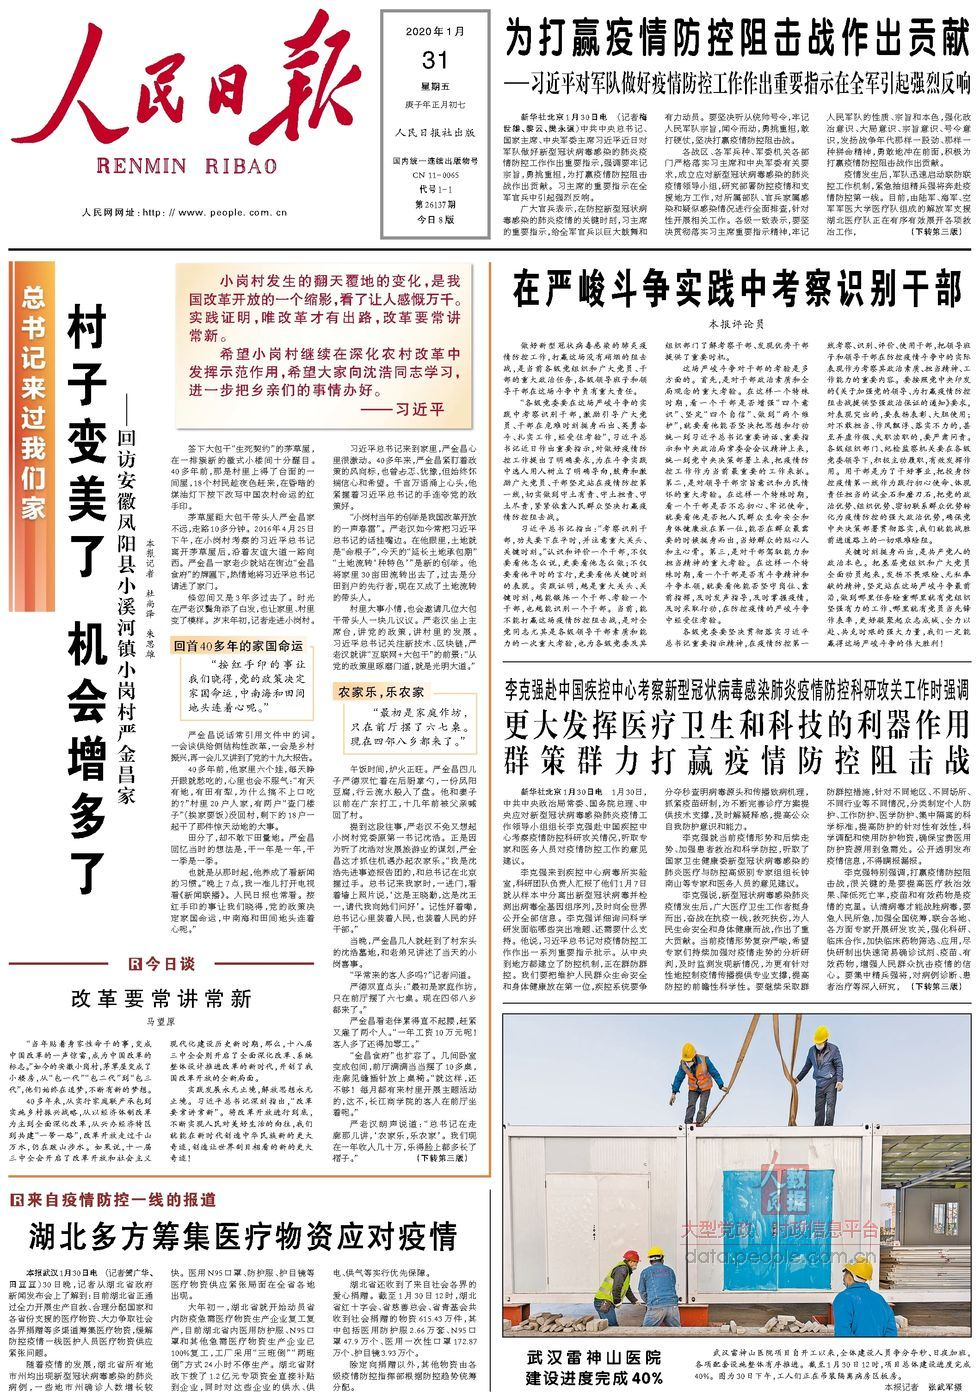pic: (499, 1009, 977, 1341)
